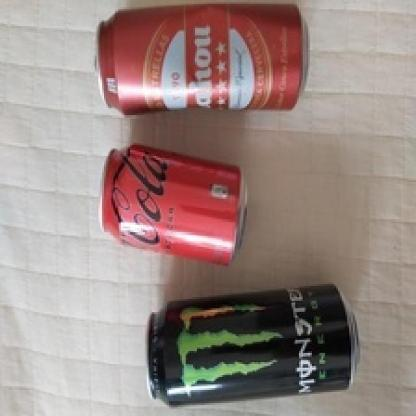Can: (143, 281, 358, 409), (96, 0, 307, 116), (99, 144, 248, 264)
